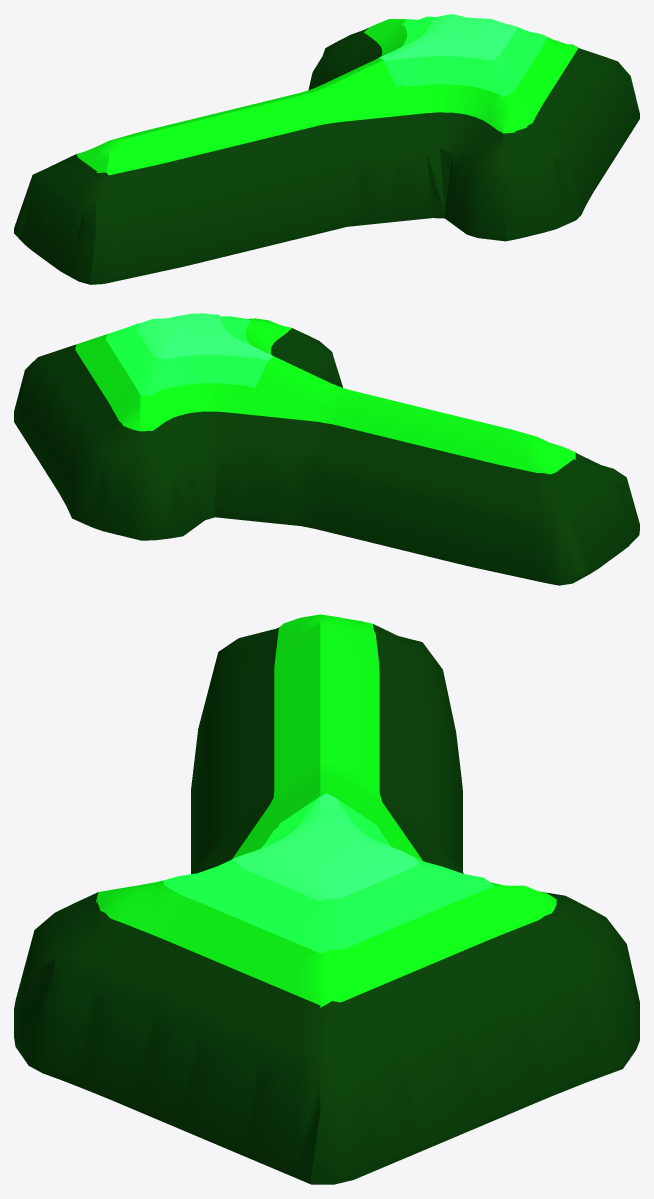
The model's file is arrow_right.glb.
3 renders of one model, top to bottom at view 1: azimuth 30°, elevation 25°; view 2: azimuth 150°, elevation 25°; view 3: azimuth 270°, elevation 25°, orthographic. The views are drawn at different scales.
Parts seen in each view (by area): view 1: arrow_right; view 2: arrow_right; view 3: arrow_right.
Part boxes in pixels (x1=…): arrow_right: x1=14, y1=14, x2=639, y2=284; arrow_right: x1=14, y1=313, x2=639, y2=585; arrow_right: x1=14, y1=614, x2=639, y2=1184.
Bounding box in the file's own units: 12.07 × 2.52 × 6.9.
